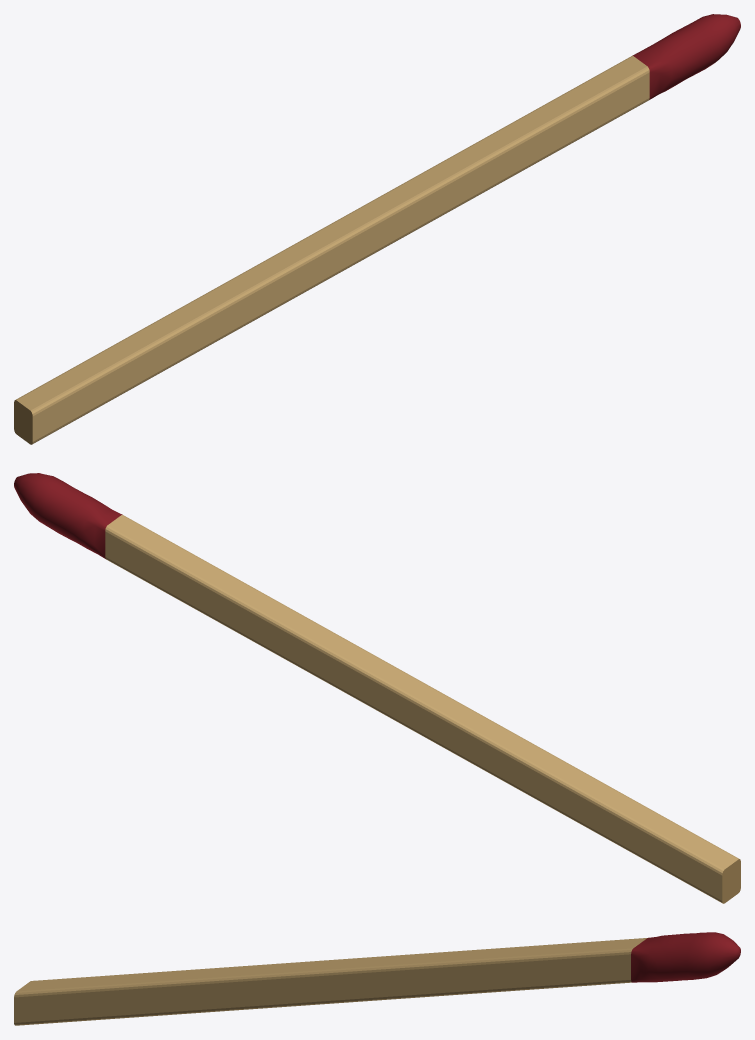
The model's file is A-NEW-20261027-MATCH-001_LOD1_R3.glb.
The picture shows the model from 3 angles, top to bottom: view 1: azimuth 30°, elevation 25°; view 2: azimuth 150°, elevation 25°; view 3: azimuth 330°, elevation 25°; orthographic projection.
Parts seen in each view (by area): view 1: continuous original squared match shaft and short head; view 2: continuous original squared match shaft and short head; view 3: continuous original squared match shaft and short head.
Part boxes in pixels (x1=…): continuous original squared match shaft and short head: x1=14, y1=14, x2=740, y2=444; continuous original squared match shaft and short head: x1=14, y1=473, x2=740, y2=903; continuous original squared match shaft and short head: x1=14, y1=932, x2=740, y2=1025.
Bounding box in the file's own units: 0.0442 × 0.0149 × 0.0026.
